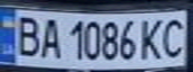0: (81, 17, 103, 61)
1: (63, 17, 84, 60)
6: (118, 17, 139, 61)
8: (100, 18, 121, 61)
A: (36, 15, 63, 58)
B: (9, 12, 42, 57)
C: (157, 15, 190, 58)
K: (136, 16, 166, 61)
